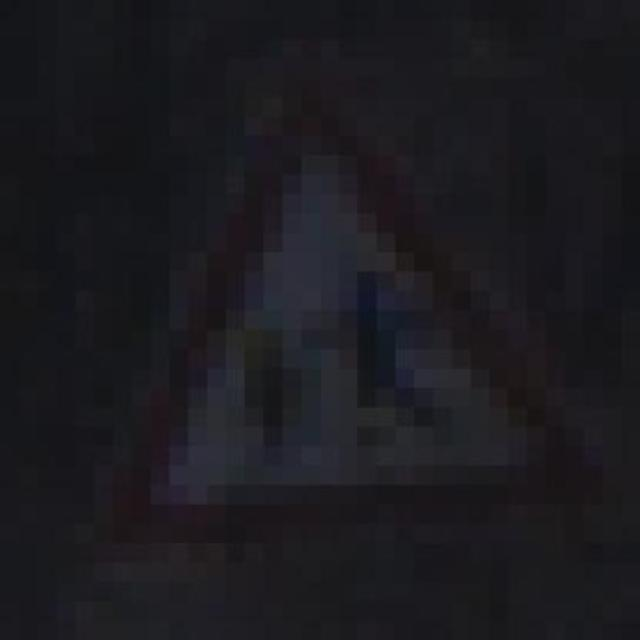Beware of children: (113, 74, 584, 558)
